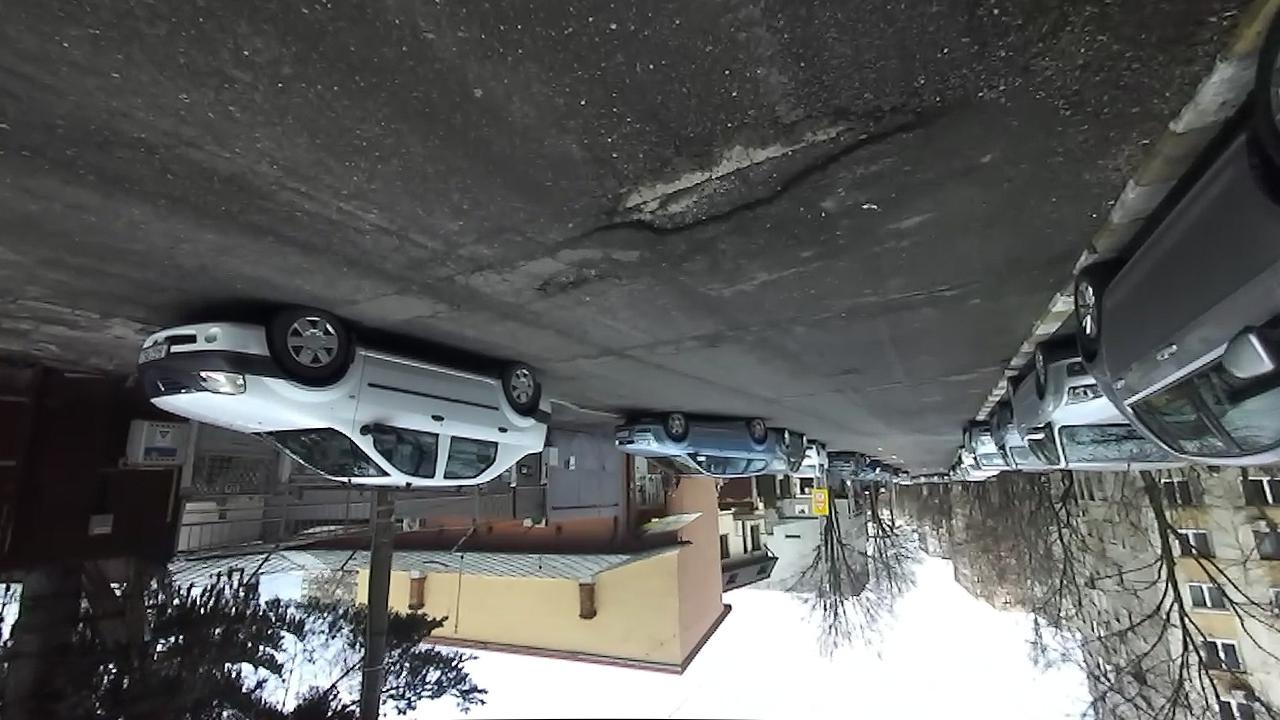pothole: (562, 95, 955, 247), (532, 262, 618, 306), (894, 283, 951, 303)
